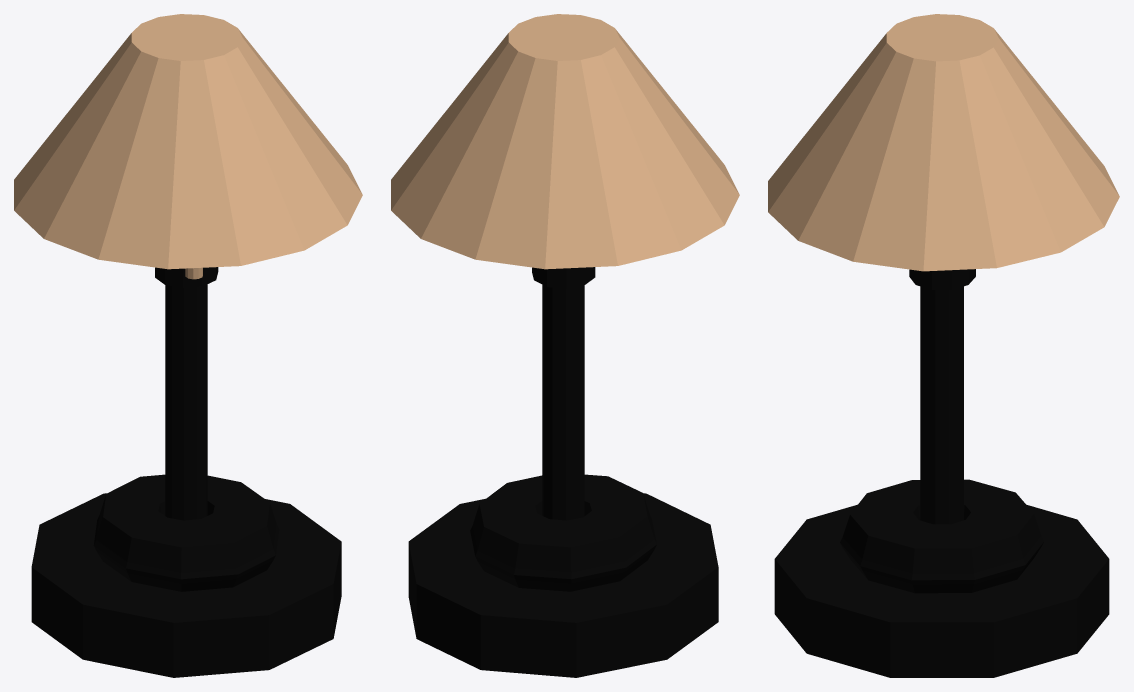
File: abajur.fbx
3 renders of one model, left to right at view 1: azimuth 30°, elevation 25°; view 2: azimuth 150°, elevation 25°; view 3: azimuth 270°, elevation 25°, orthographic.
Parts seen in each view (by area): view 1: Abajur; view 2: Abajur; view 3: Abajur.
Boxes of the visible parts, box(x1,y1,x2,y2) form: Abajur: box(14, 14, 362, 677); Abajur: box(391, 14, 739, 677); Abajur: box(768, 14, 1119, 677).
Size of the model in its own units: 469 by 843 by 466.
